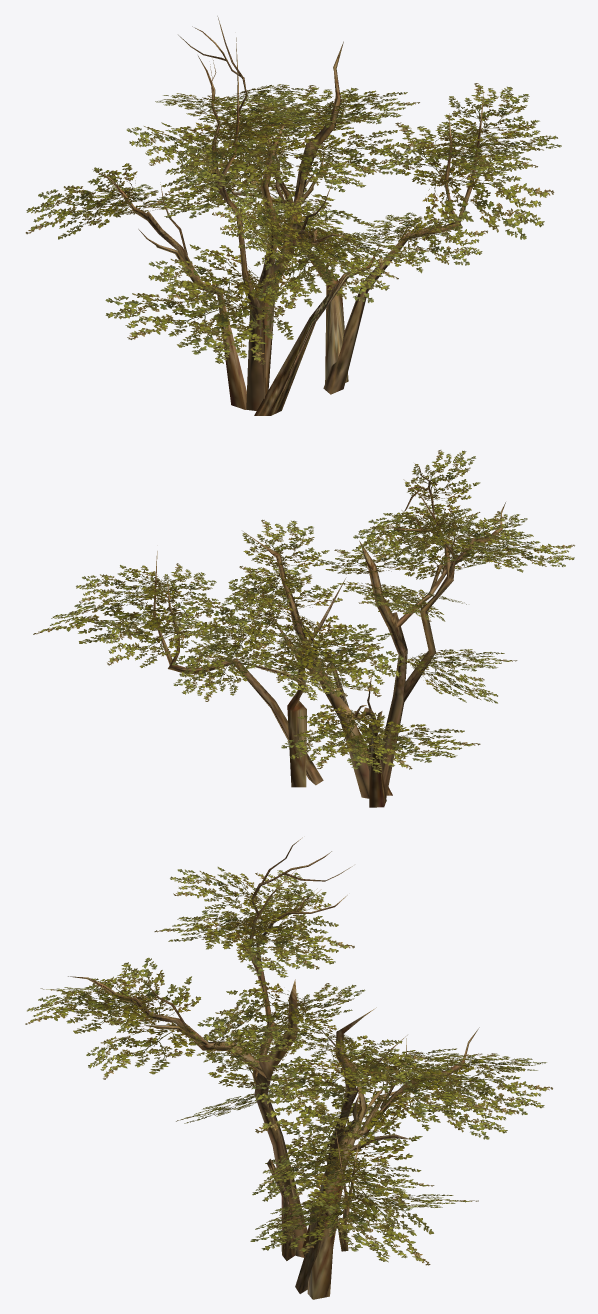
Rendered from S_Tree_Yellow059.FBX.
3 renders of one model, top to bottom at view 1: azimuth 30°, elevation 25°; view 2: azimuth 150°, elevation 25°; view 3: azimuth 270°, elevation 25°, orthographic. The views are drawn at different scales.
Parts seen in each view (by area): view 1: S_Tree_Yellow059; view 2: S_Tree_Yellow059; view 3: S_Tree_Yellow059.
Boxes of the visible parts, x1,y1,x2,y2 form: S_Tree_Yellow059: [25, 16, 561, 415]; S_Tree_Yellow059: [33, 450, 574, 807]; S_Tree_Yellow059: [25, 837, 552, 1299].
Size of the model in its own units: 638 by 634 by 489.
